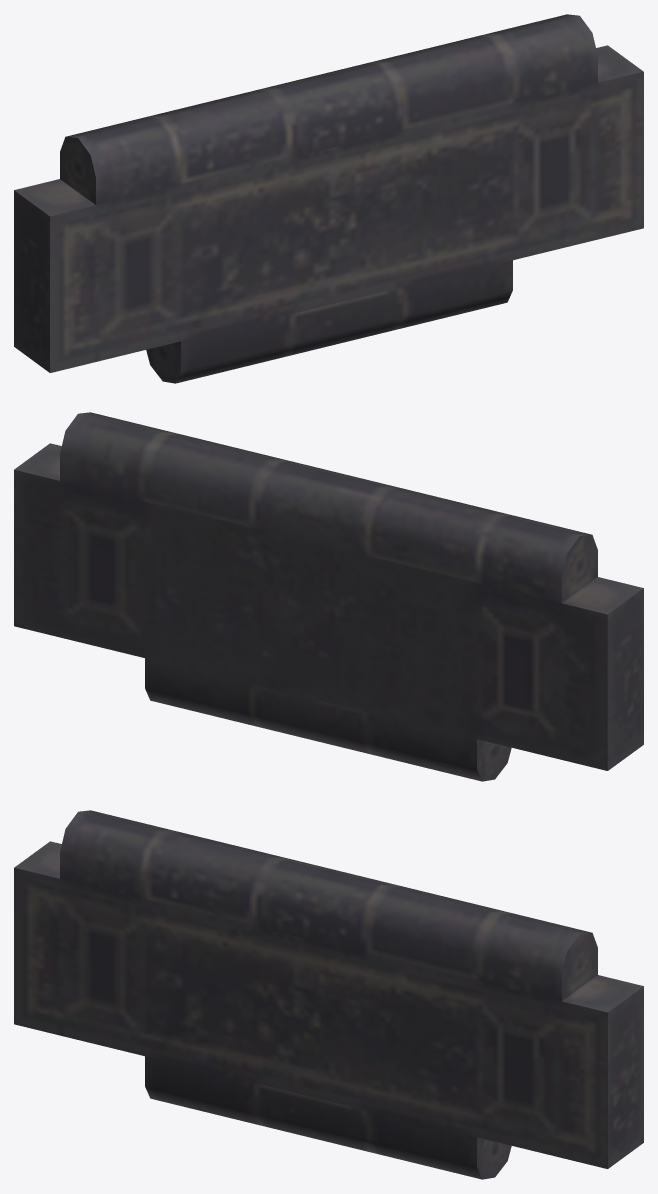
3 views of the same model, one above another, from view 1: azimuth 30°, elevation 25°; view 2: azimuth 150°, elevation 25°; view 3: azimuth 330°, elevation 25° (orthographic).
Visible parts, largest first — view 1: set_0_group_0; view 2: set_0_group_0; view 3: set_0_group_0.
Boxes of the visible parts, x1,y1,x2,y2 form: set_0_group_0: (14, 14, 643, 383); set_0_group_0: (14, 412, 643, 781); set_0_group_0: (14, 810, 643, 1179).
Bounding box in the file's own units: 0.27 × 0.1147 × 0.0285.
1 material, 1 textured.
